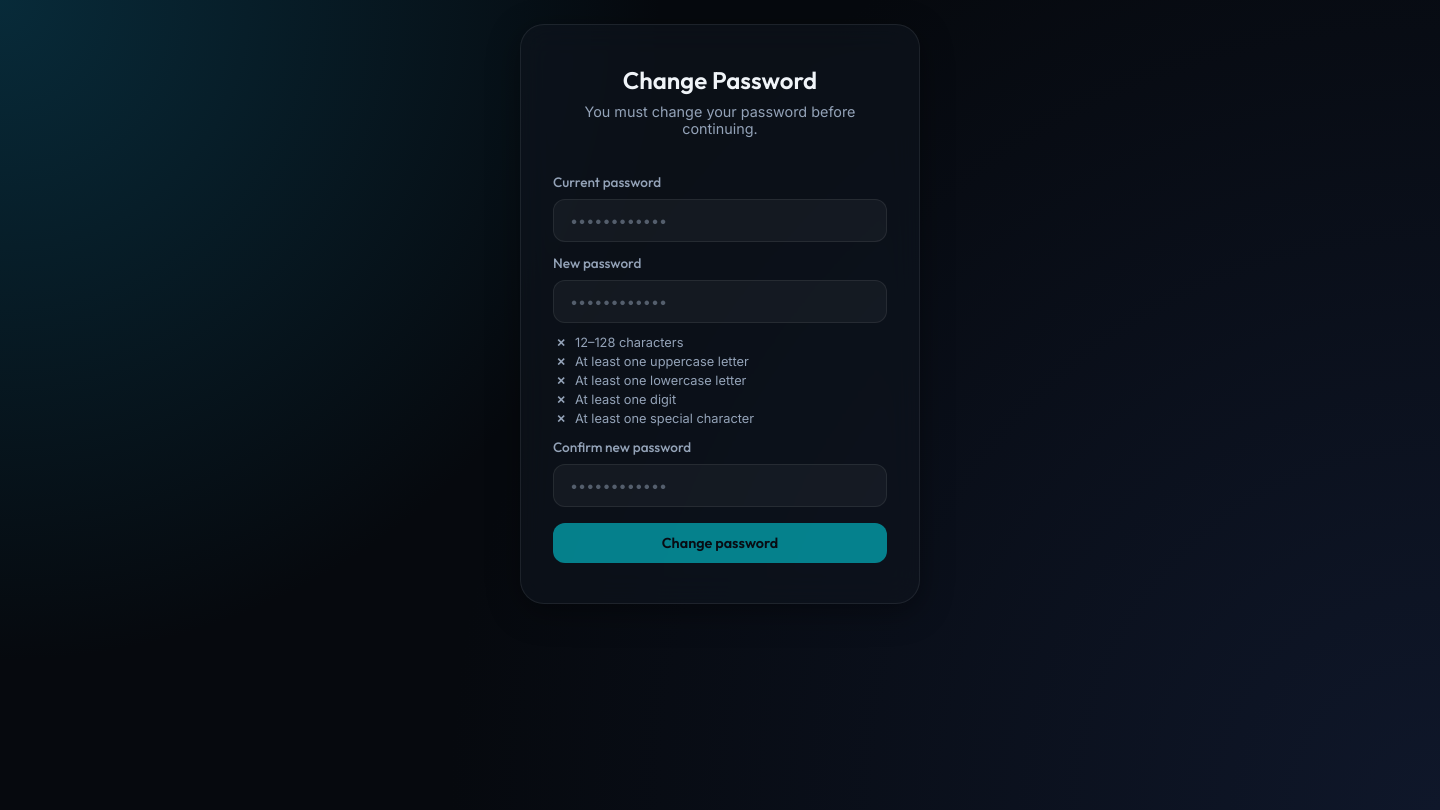
Scenario: PasswordChangePage › enables submit when all fields are valid
Type "oldpassword" into the password field labelled "Current password". click: (720,220)
box: [553,199,887,242]
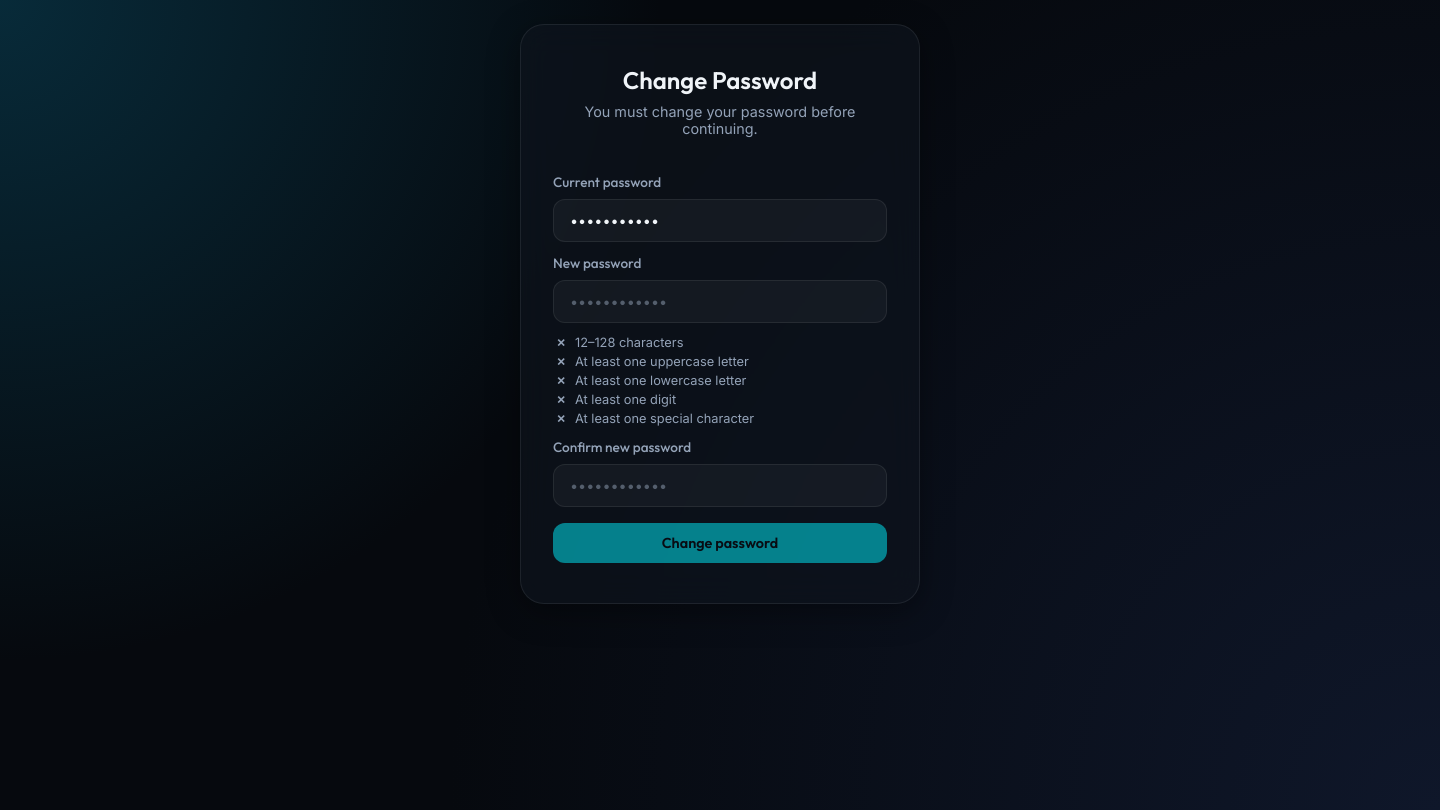
Type "Abcdefghijk1!" into the password field labelled "New password". click: (720,302)
box: [553,280,887,323]
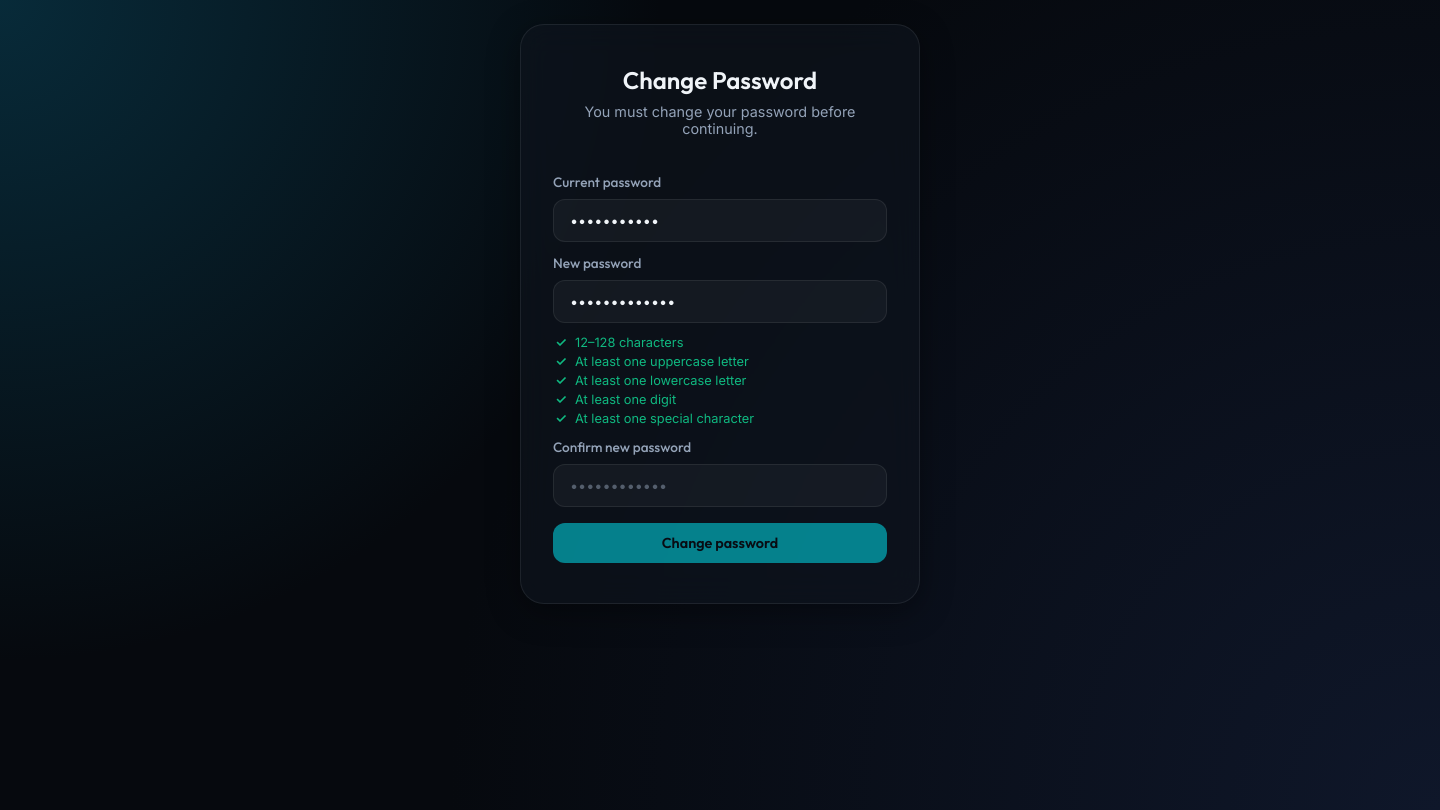
Type "Abcdefghijk1!" into the password field labelled "Confirm new password". click: (720,486)
box: [553,464,887,507]
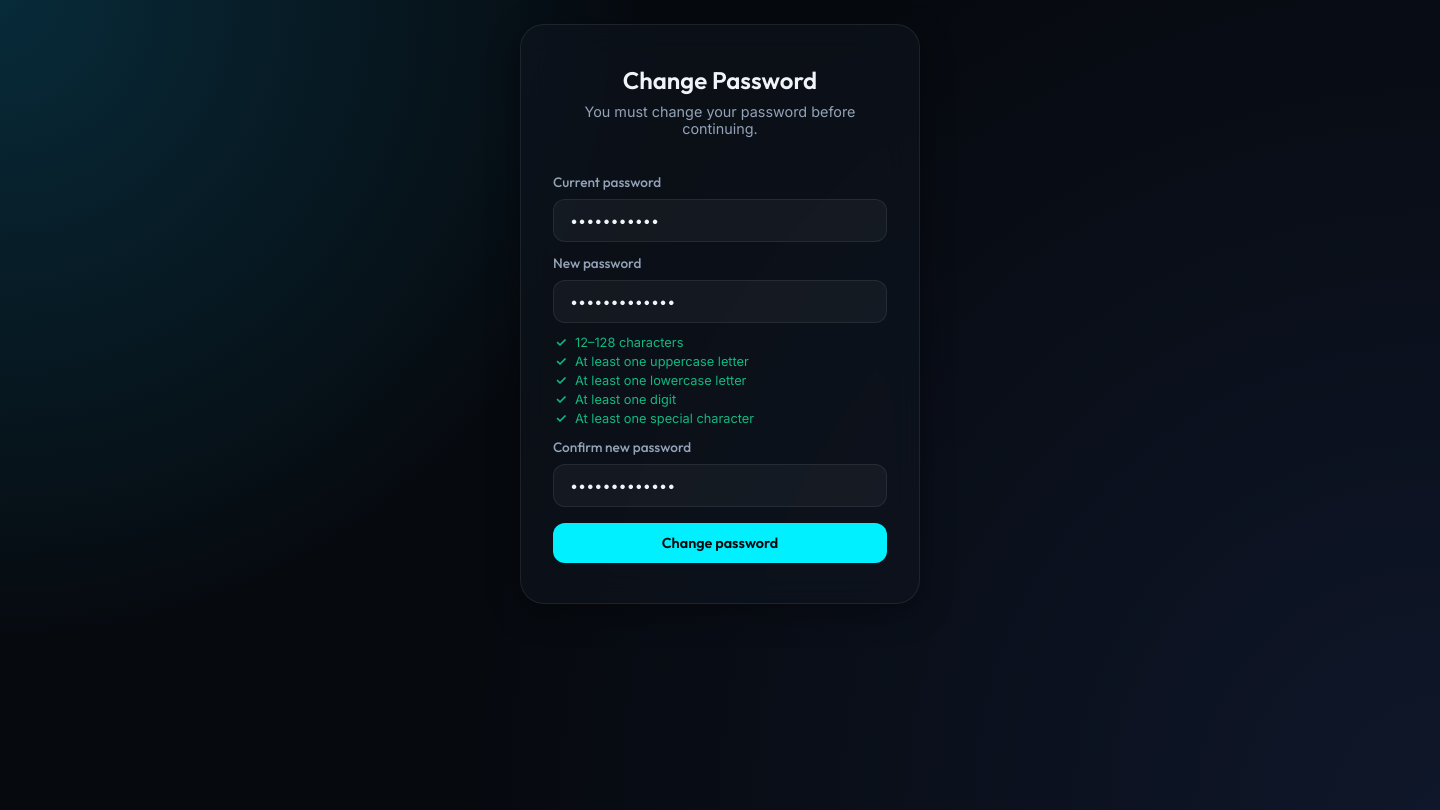
Now the button "Change password" is enabled, box [553,523,887,563]
